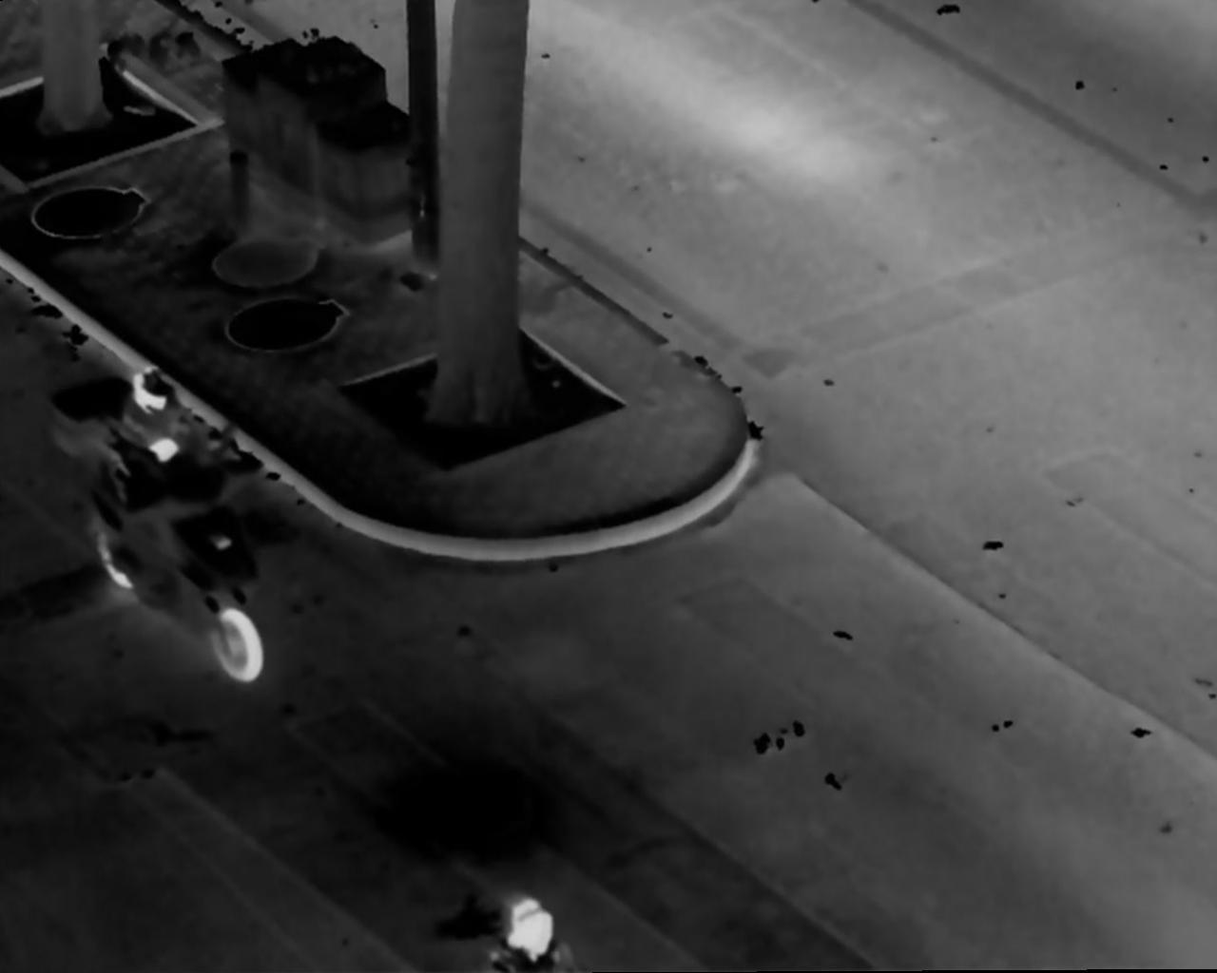person: (110, 364, 238, 614), (474, 888, 578, 973)
